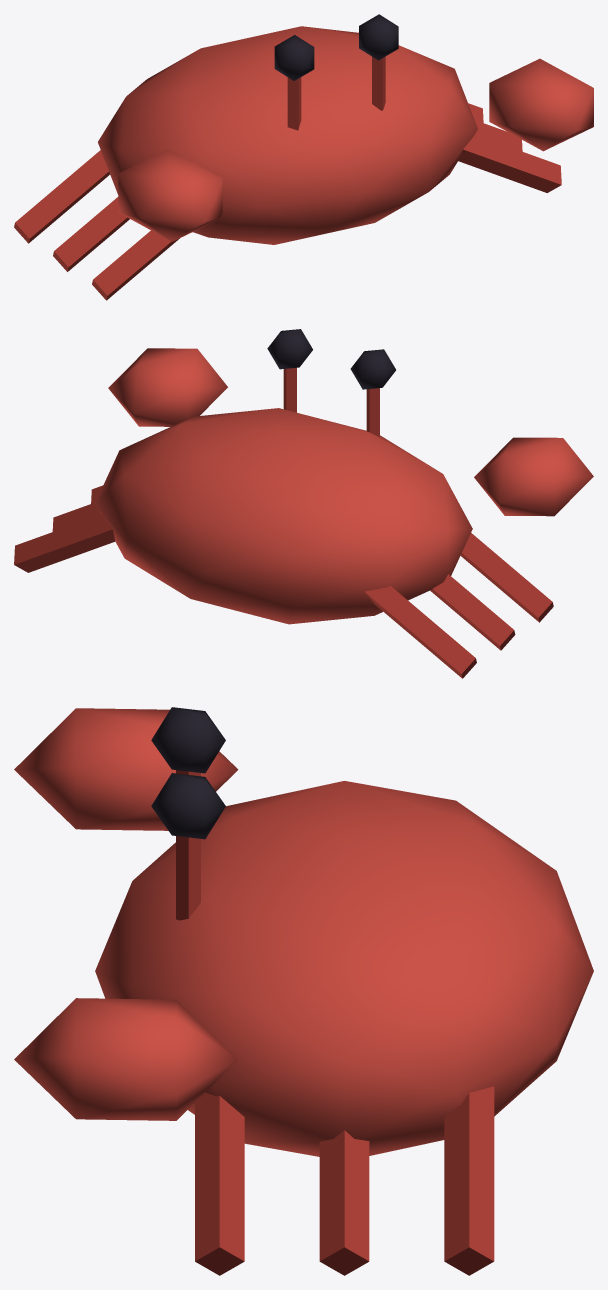
Rendered from crab.fbx.
The picture shows the model from 3 angles, top to bottom: view 1: azimuth 30°, elevation 25°; view 2: azimuth 150°, elevation 25°; view 3: azimuth 270°, elevation 25°; orthographic projection. The views are drawn at different scales.
Visible parts, largest first — view 1: Body, Head; view 2: Body, Head; view 3: Body, Head.
Boxes of the visible parts, left/top/right/bottom form: Body: left=14, top=26, right=593, bottom=300; Head: left=274, top=14, right=398, bottom=130; Body: left=14, top=348, right=593, bottom=678; Head: left=267, top=329, right=395, bottom=437; Body: left=14, top=708, right=593, bottom=1275; Head: left=151, top=707, right=225, bottom=920.
Bounding box in the file's own units: 0.2773 × 0.1282 × 0.186.
